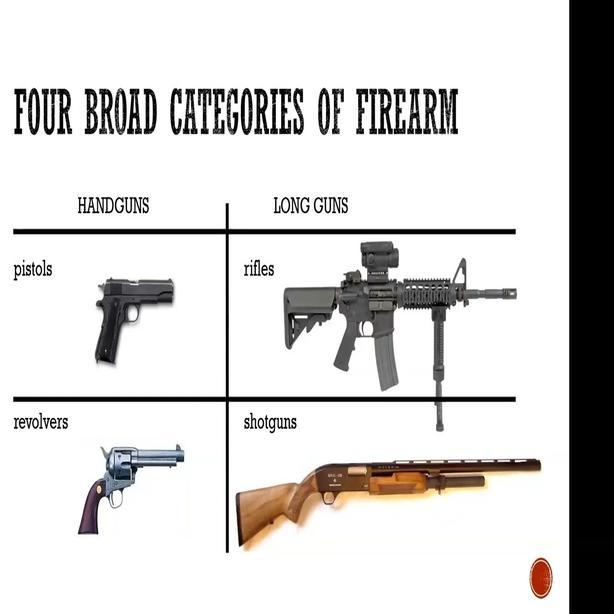Firearm: (232, 435, 551, 556), (278, 237, 524, 392), (71, 249, 195, 381), (72, 421, 187, 554)
